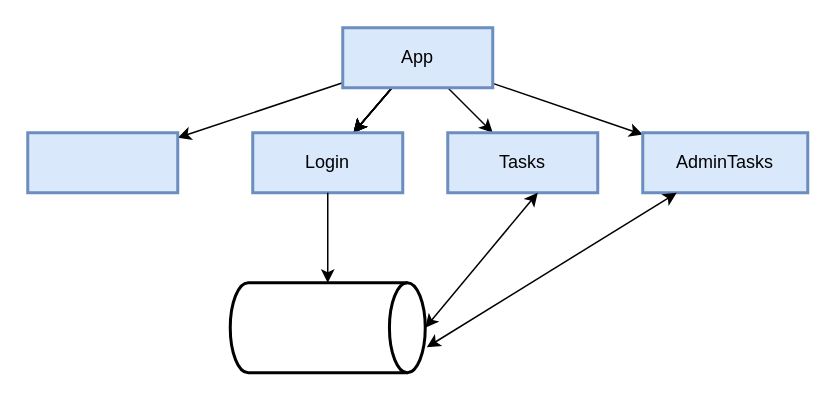
Some shapes in this 834 by 399 pixel diagram are drawn without their labels. The shapes that lost their labels are listed below. From the top down, each one's centre as x and y in pixels, then its label:
pixel 102 162: Signup
pixel 327 327: Local storage
